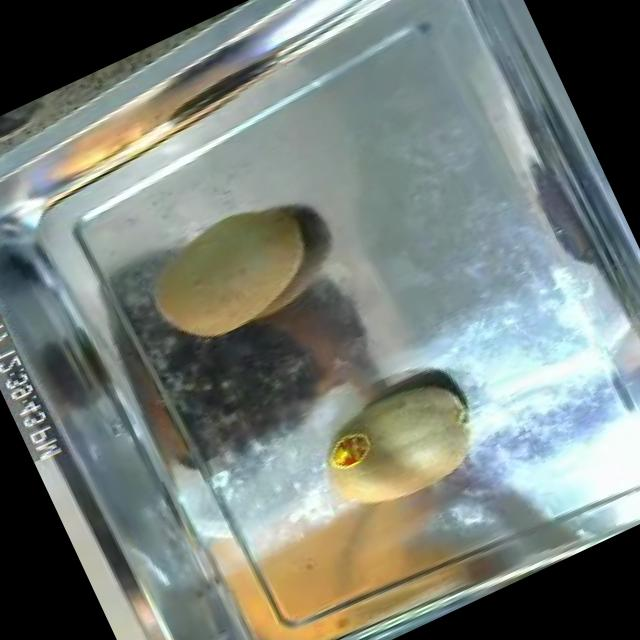Fruit: (217, 433, 514, 640), (120, 175, 344, 370), (289, 353, 505, 542)
